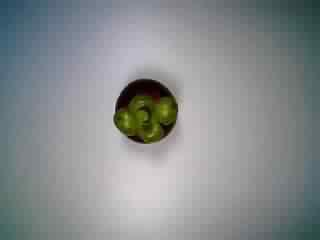mangosteen: (102, 74, 180, 149)
